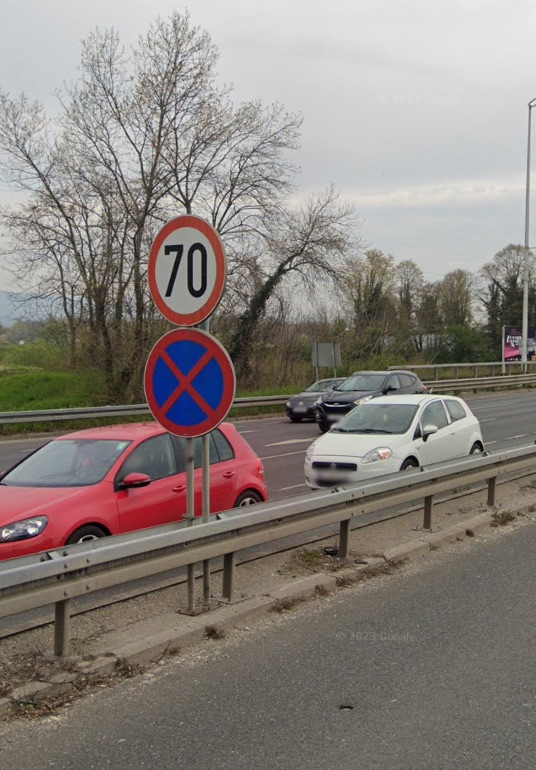Ograničenje brzine 70: (148, 214, 226, 328)
